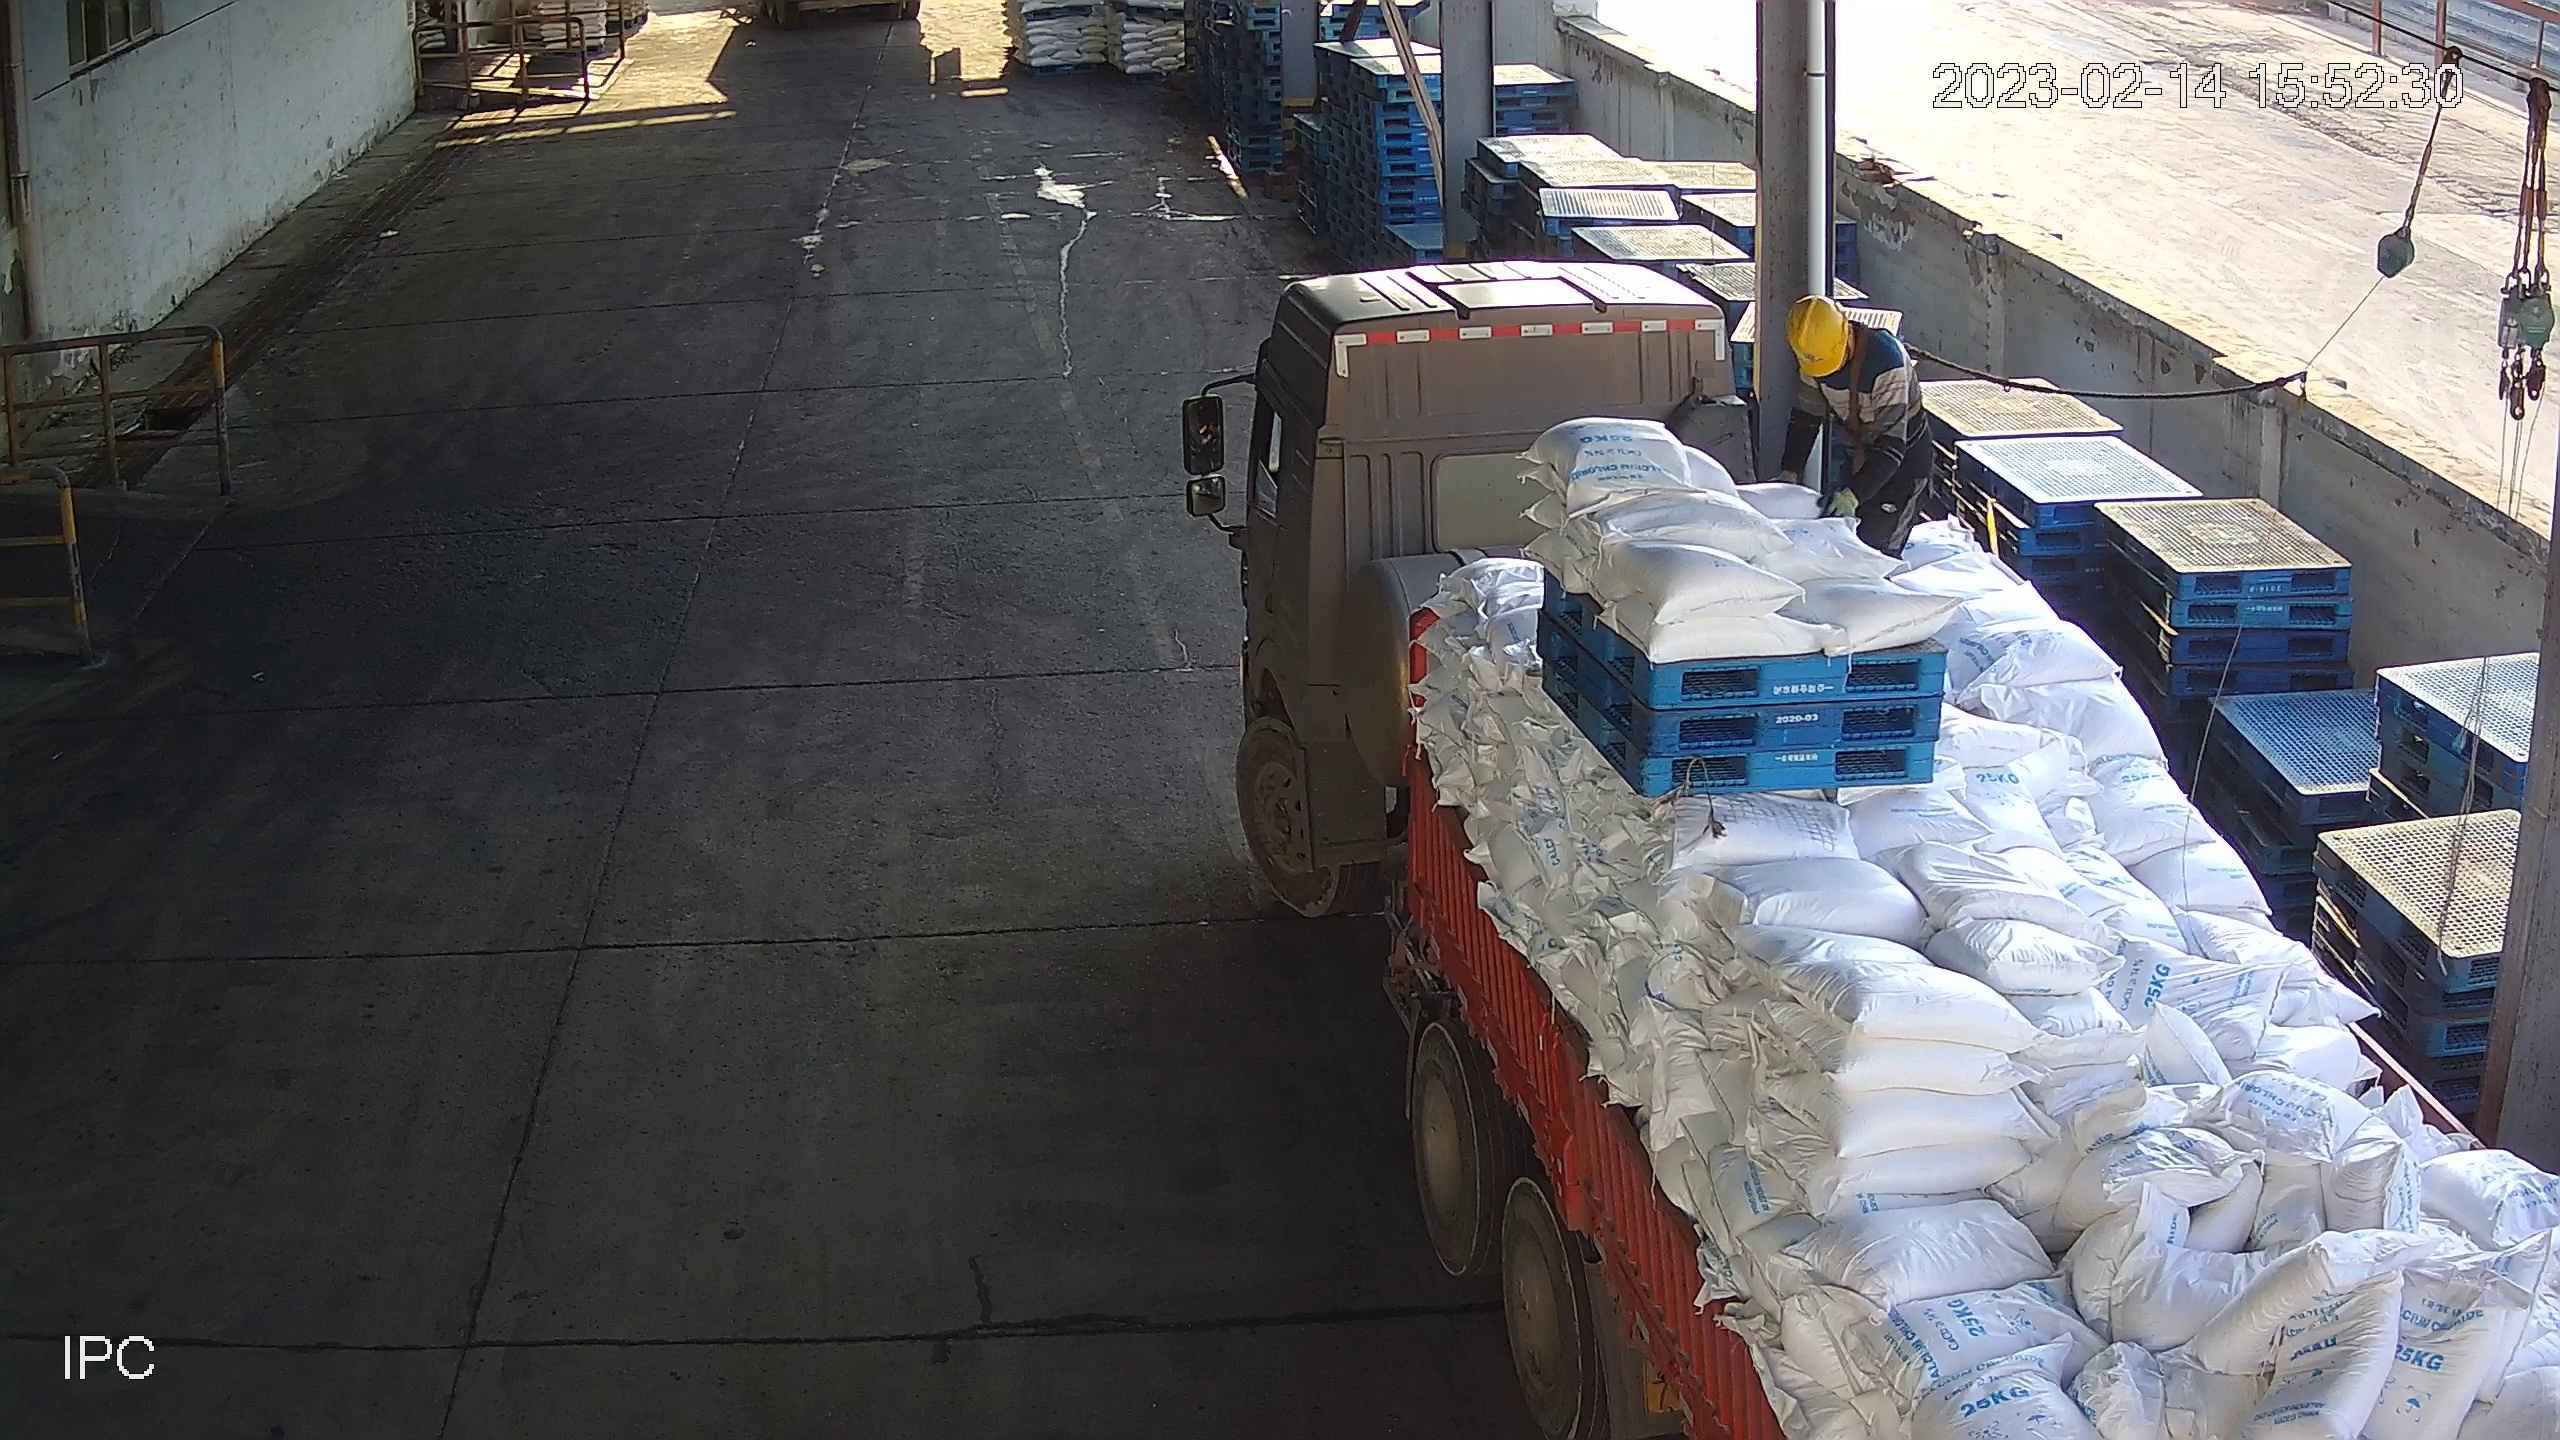belt: (1824, 324, 1928, 433)
head: (1783, 295, 1900, 416)
helmet: (1786, 296, 1850, 378)
people: (1774, 294, 1935, 560)
truck: (1174, 249, 2560, 1440)
